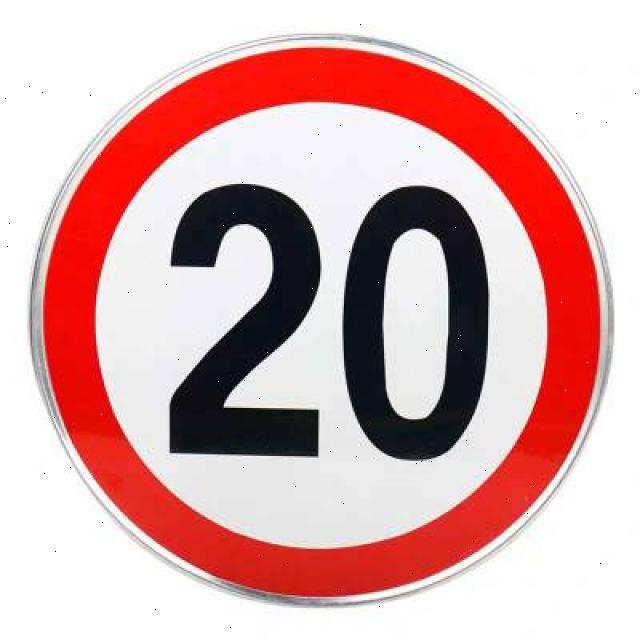speed limit 20: (28, 36, 616, 608)
